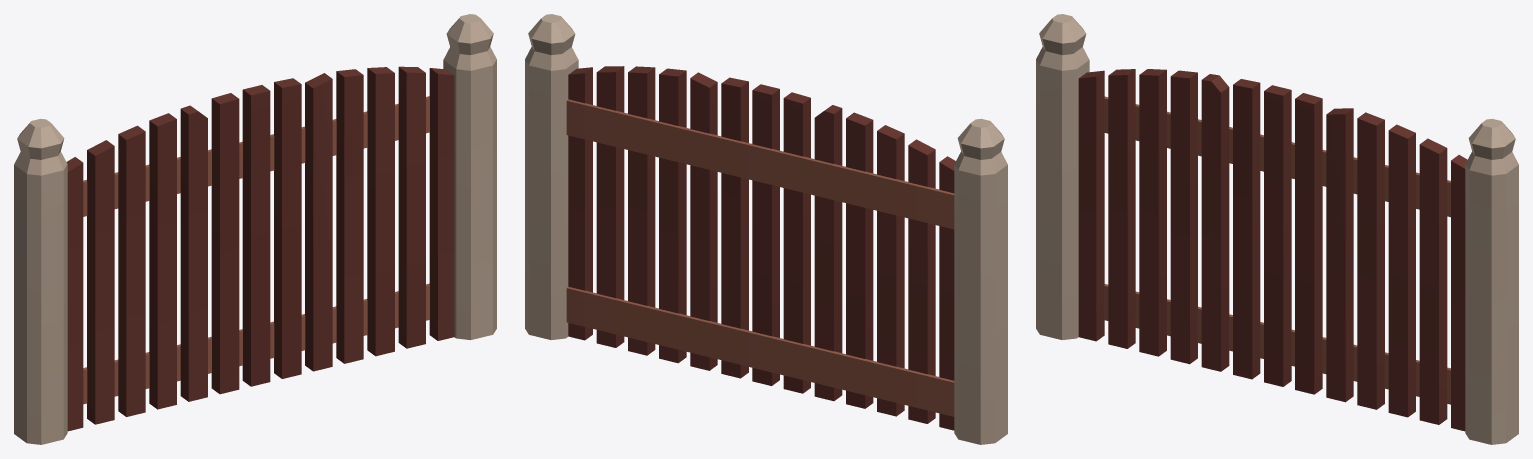
File: Zabor.fbx
3 renders of one model, left to right at view 1: azimuth 30°, elevation 25°; view 2: azimuth 150°, elevation 25°; view 3: azimuth 330°, elevation 25°, orthographic.
Visible parts, largest first — view 1: Cube.006; view 2: Cube.006; view 3: Cube.006.
Boxes of the visible parts, <box> form: Cube.006: <box>14,14,496,444</box>; Cube.006: <box>525,14,1007,444</box>; Cube.006: <box>1036,14,1518,444</box>.
Size of the model in its own units: 189 by 119 by 16.34.
